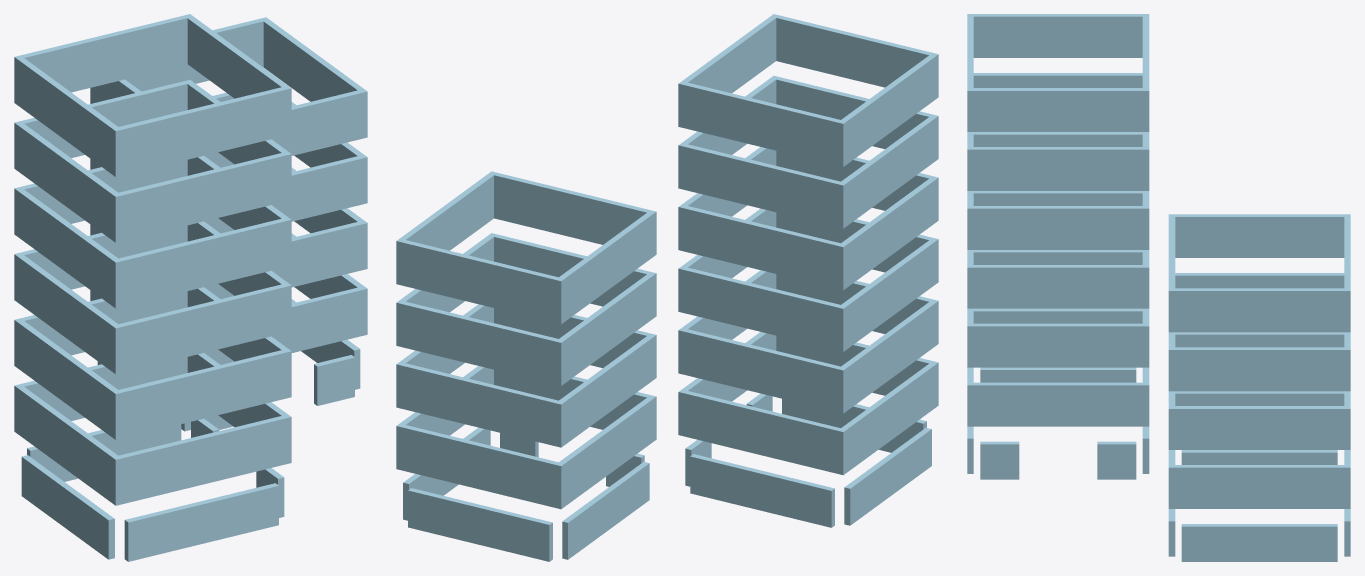
Rendered from building_big_3_reflections.obj.
3 views of the same model, side by side, from view 1: azimuth 30°, elevation 25°; view 2: azimuth 150°, elevation 25°; view 3: azimuth 270°, elevation 25° (orthographic). The views are drawn at different scales.
Size of the model in its own units: 5.8 by 6.6 by 5.9.
Materials: 1 (1 with a texture image).
